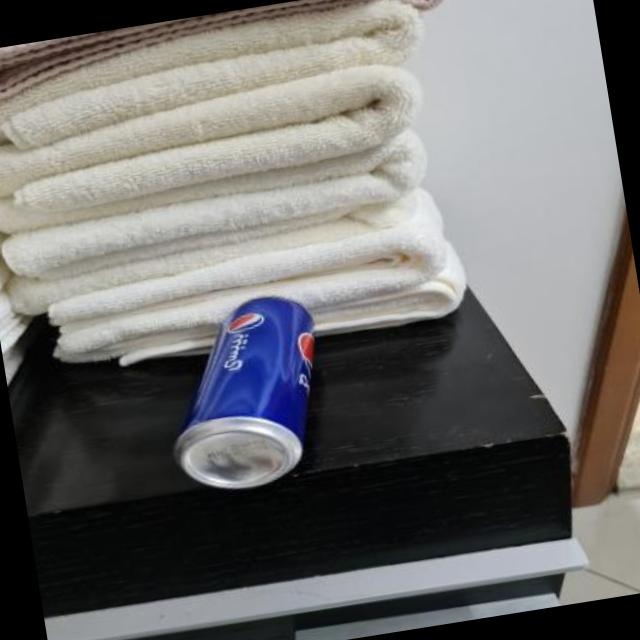metal: (171, 294, 311, 486)
